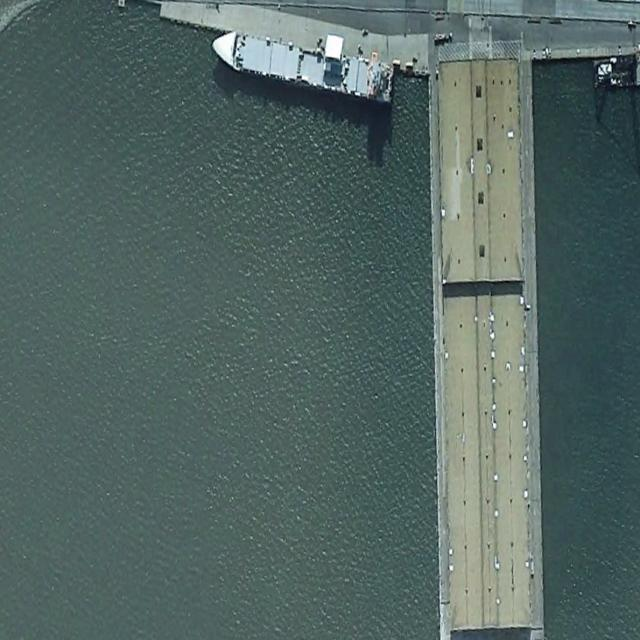Other Ship: (209, 28, 396, 103)
